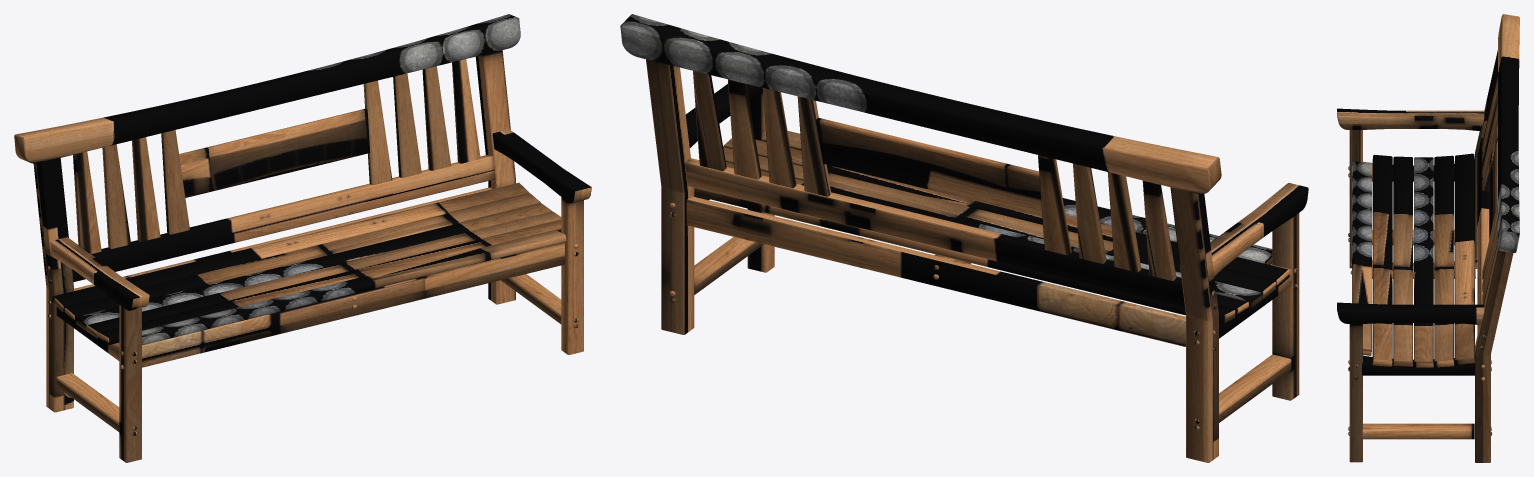
Rendered from bench.obj.
3 renders of one model, left to right at view 1: azimuth 30°, elevation 25°; view 2: azimuth 150°, elevation 25°; view 3: azimuth 270°, elevation 25°, orthographic. The views are drawn at different scales.
Visible parts, largest first — view 1: Bench_Bench.002; view 2: Bench_Bench.002; view 3: Bench_Bench.002.
Part boxes in pixels (<box>): Bench_Bench.002: <box>14,14,591,462</box>; Bench_Bench.002: <box>620,14,1308,462</box>; Bench_Bench.002: <box>1337,14,1519,462</box>.
Bounding box in the file's own units: 4 × 2.05 × 1.42.
